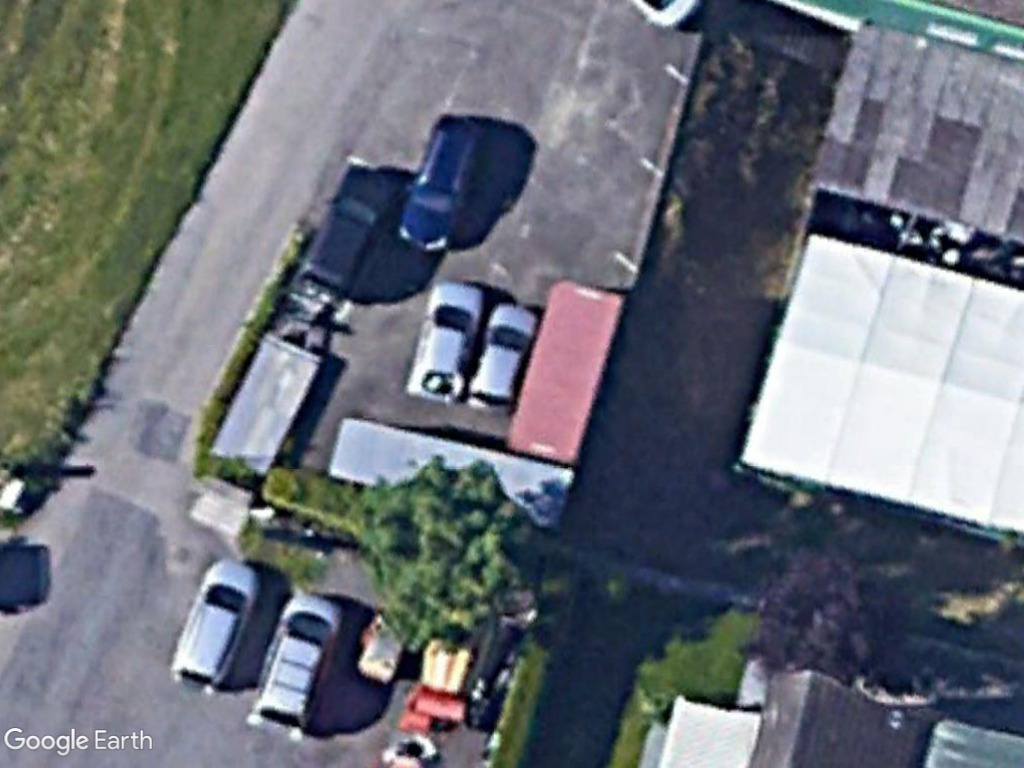car: (288, 164, 403, 300), (246, 592, 348, 738), (392, 112, 493, 255), (166, 556, 263, 696), (403, 276, 488, 407), (462, 300, 541, 415)
